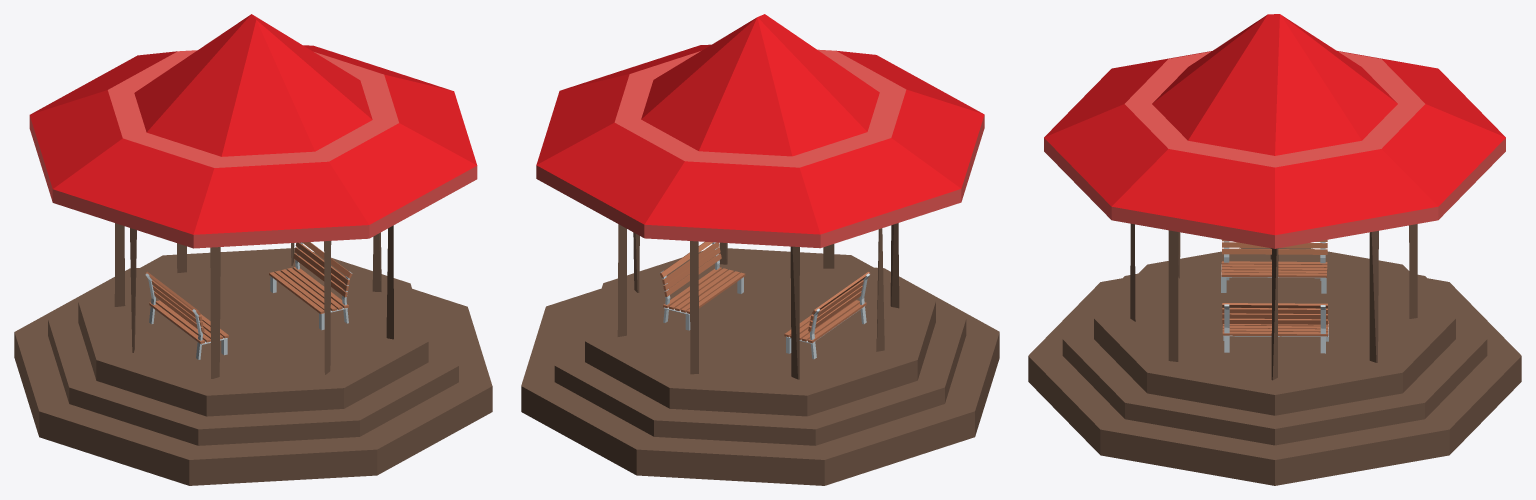
The model's file is arbour.obj.
3 renders of one model, left to right at view 1: azimuth 30°, elevation 25°; view 2: azimuth 150°, elevation 25°; view 3: azimuth 270°, elevation 25°, orthographic.
Visible parts, largest first — view 1: arbour; view 2: arbour; view 3: arbour.
Boxes of the visible parts, bbox=[...] form: arbour: bbox=[14, 14, 492, 485]; arbour: bbox=[521, 14, 999, 485]; arbour: bbox=[1028, 14, 1521, 485].
Bounding box in the file's own units: 2.98 × 2.45 × 2.98.
